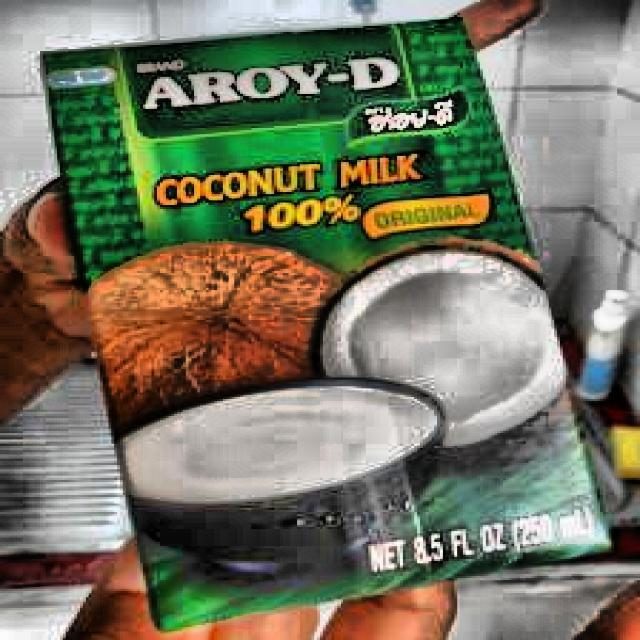cardboard: (34, 4, 617, 632)
